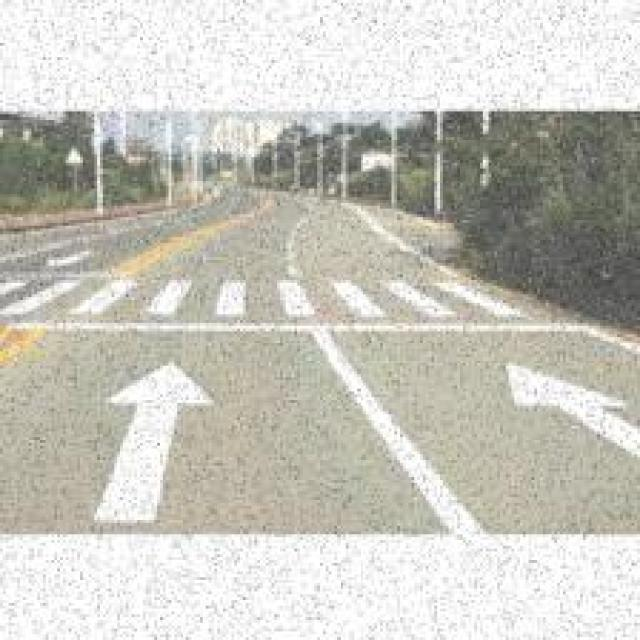crosswalk: (1, 269, 603, 333)
